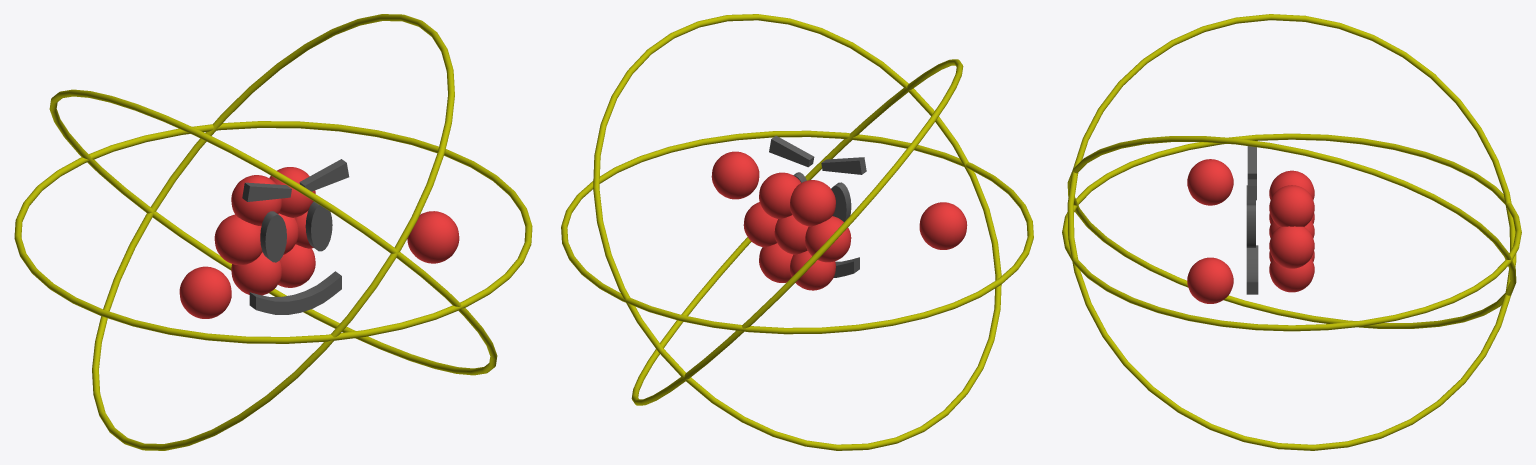
The model's file is AtomMainTwo.fbx.
3 renders of one model, left to right at view 1: azimuth 30°, elevation 25°; view 2: azimuth 150°, elevation 25°; view 3: azimuth 270°, elevation 25°, orthographic. The views are drawn at different scales.
Parts seen in each view (by area): view 1: pTorus3, pTorus1, pSphere8, pTorus2, pSphere9, pSphere10, pCube3, pCylinder1, pCylinder2, pCube2, pCube1; view 2: pTorus3, pSphere8, pTorus1, pTorus2, pSphere10, pSphere9, pCube2, pCube1, pCylinder1; view 3: pTorus2, pTorus1, pTorus3, pSphere8, pSphere10, pSphere9, pCube3.
Part boxes in pixels (x1,y1,x2,y2): pTorus3: (92, 14, 454, 450); pTorus1: (14, 121, 532, 343); pSphere8: (214, 167, 315, 295); pTorus2: (49, 89, 497, 375); pSphere9: (179, 266, 231, 318); pSphere10: (407, 211, 459, 263); pCube3: (249, 271, 341, 314); pCylinder1: (260, 211, 286, 262); pCylinder2: (305, 201, 332, 251); pCube2: (299, 159, 349, 191); pCube1: (242, 182, 291, 201); pTorus3: (593, 14, 1001, 450); pSphere8: (743, 172, 851, 290); pTorus1: (561, 130, 1033, 334); pTorus2: (631, 59, 963, 405); pSphere10: (711, 151, 759, 199); pSphere9: (919, 202, 967, 249); pCube2: (769, 135, 814, 167); pCube1: (821, 157, 866, 174); pCylinder1: (831, 182, 851, 221); pTorus2: (1067, 14, 1516, 450); pTorus1: (1062, 133, 1521, 331); pTorus3: (1067, 136, 1516, 328); pSphere8: (1269, 170, 1314, 292); pSphere10: (1187, 257, 1233, 303); pSphere9: (1187, 159, 1233, 205); pCube3: (1246, 245, 1258, 294).
Size of the model in its own units: 19.74 by 14.61 by 19.74.
